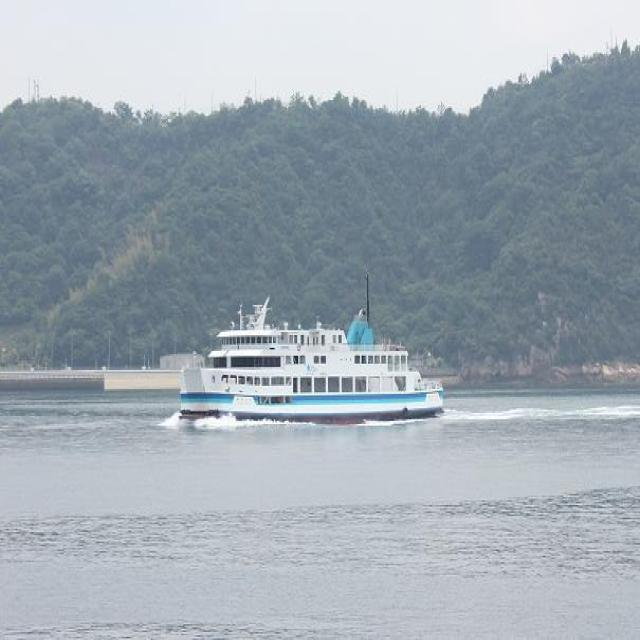houseboat: (178, 266, 452, 444)
